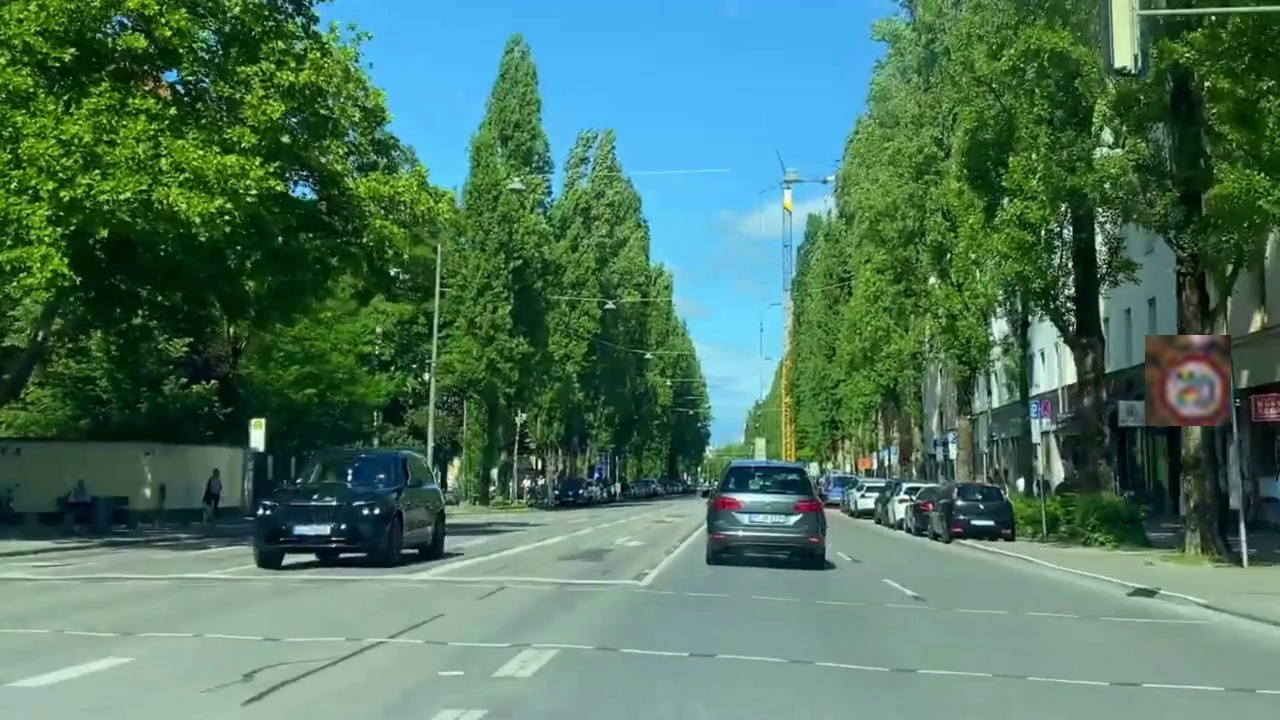Speed 70: (1145, 335, 1231, 426)
